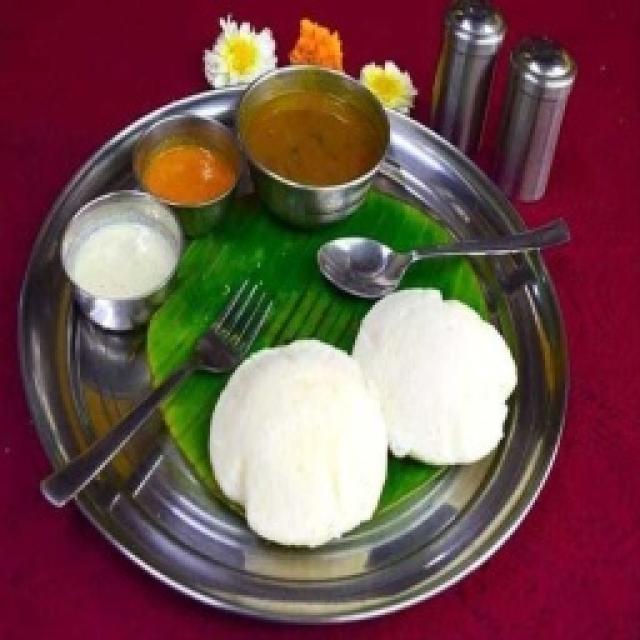idli: (237, 354, 488, 546)
